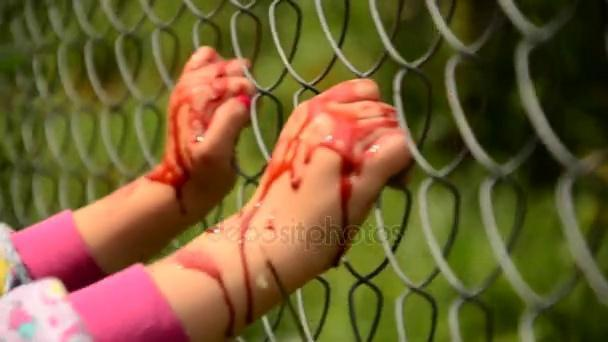Fire: (207, 81, 399, 324), (146, 47, 254, 214), (175, 247, 238, 338), (266, 259, 289, 300)
